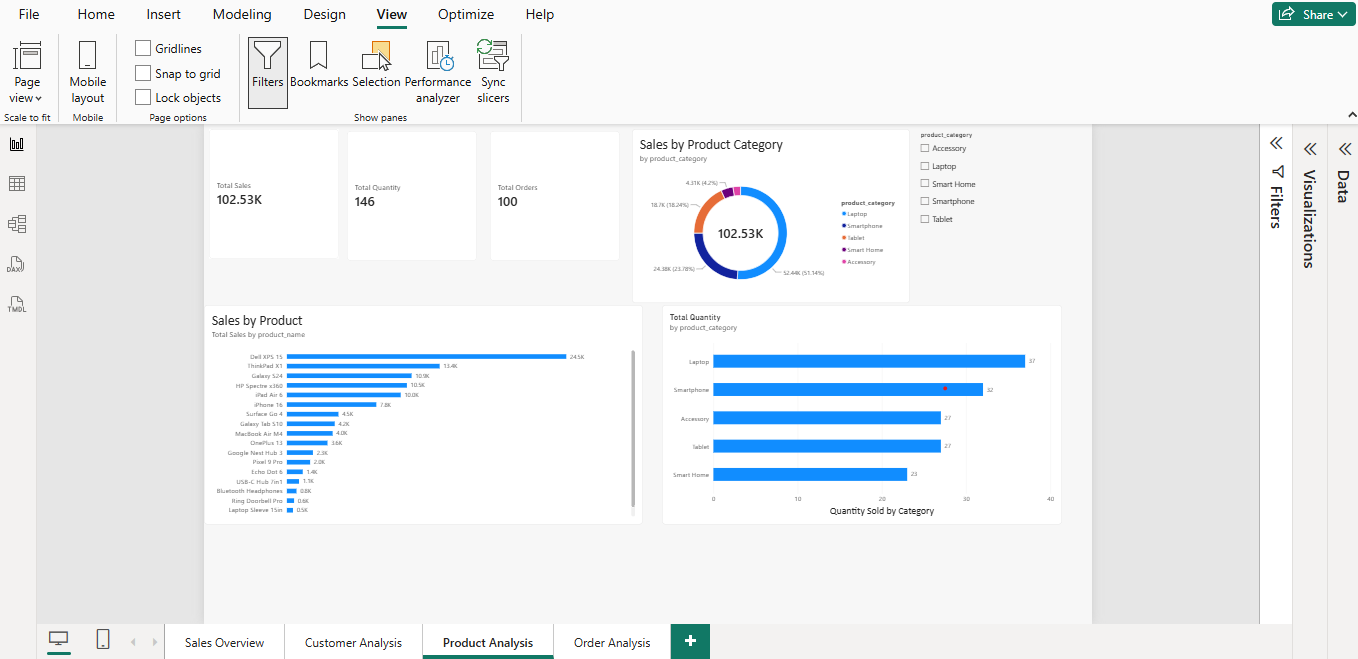

The dashboard page shown, as its layout file describes it:
{"tool":"powerbi","page":{"name":"Product Analysis","canvas":[1920,1080],"ordinal":2},"visuals":[{"type":"cardVisual","fields":{"Data":["orders.Total Sales"]},"box":[10,10,280,280],"z":0},{"type":"cardVisual","fields":{"Data":["orders.Total Quantity"]},"box":[308,16,280,280],"z":1},{"type":"cardVisual","fields":{"Data":["orders.Total Orders"]},"box":[618,16,280,280],"z":2},{"type":"donutChart","fields":{"Category":["orders.product_category"],"Y":["orders.Total Sales"]},"box":[924,10,600,376],"z":3},{"type":"clusteredBarChart","title":"Sales by Product","fields":{"Category":["orders.product_name"],"Y":["orders.Total Sales"]},"box":[0,392,948,474],"z":4},{"type":"clusteredBarChart","fields":{"Category":["orders.product_category"],"Y":["orders.Total Quantity"]},"box":[990,392,864,474],"z":5},{"type":"slicer","fields":{"Values":["orders.product_category"]},"box":[1540,16,192,234],"z":6}]}

Visuals, with their boxes on the page's 1920x1080 design canvas (x1, y1, x2, y2). These are canvas units, not pixel positions in the 1358x659 screenshot, which may show the page scaled, cropped or inside an application window:
cardVisual - orders.Total Sales: locate(10, 10, 290, 290)
cardVisual - orders.Total Quantity: locate(308, 16, 588, 296)
cardVisual - orders.Total Orders: locate(618, 16, 898, 296)
donutChart - orders.product_category x orders.Total Sales: locate(924, 10, 1524, 386)
"Sales by Product" clusteredBarChart: locate(0, 392, 948, 866)
clusteredBarChart - orders.product_category x orders.Total Quantity: locate(990, 392, 1854, 866)
slicer - orders.product_category: locate(1540, 16, 1732, 250)
